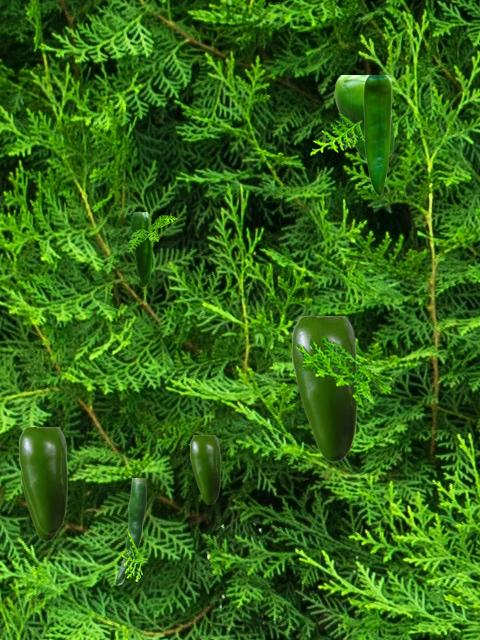green_chili: (292, 316, 356, 461), (19, 427, 66, 533), (334, 75, 393, 159), (114, 478, 145, 584), (363, 75, 390, 194), (21, 474, 56, 540), (190, 435, 219, 503), (131, 212, 150, 286)
